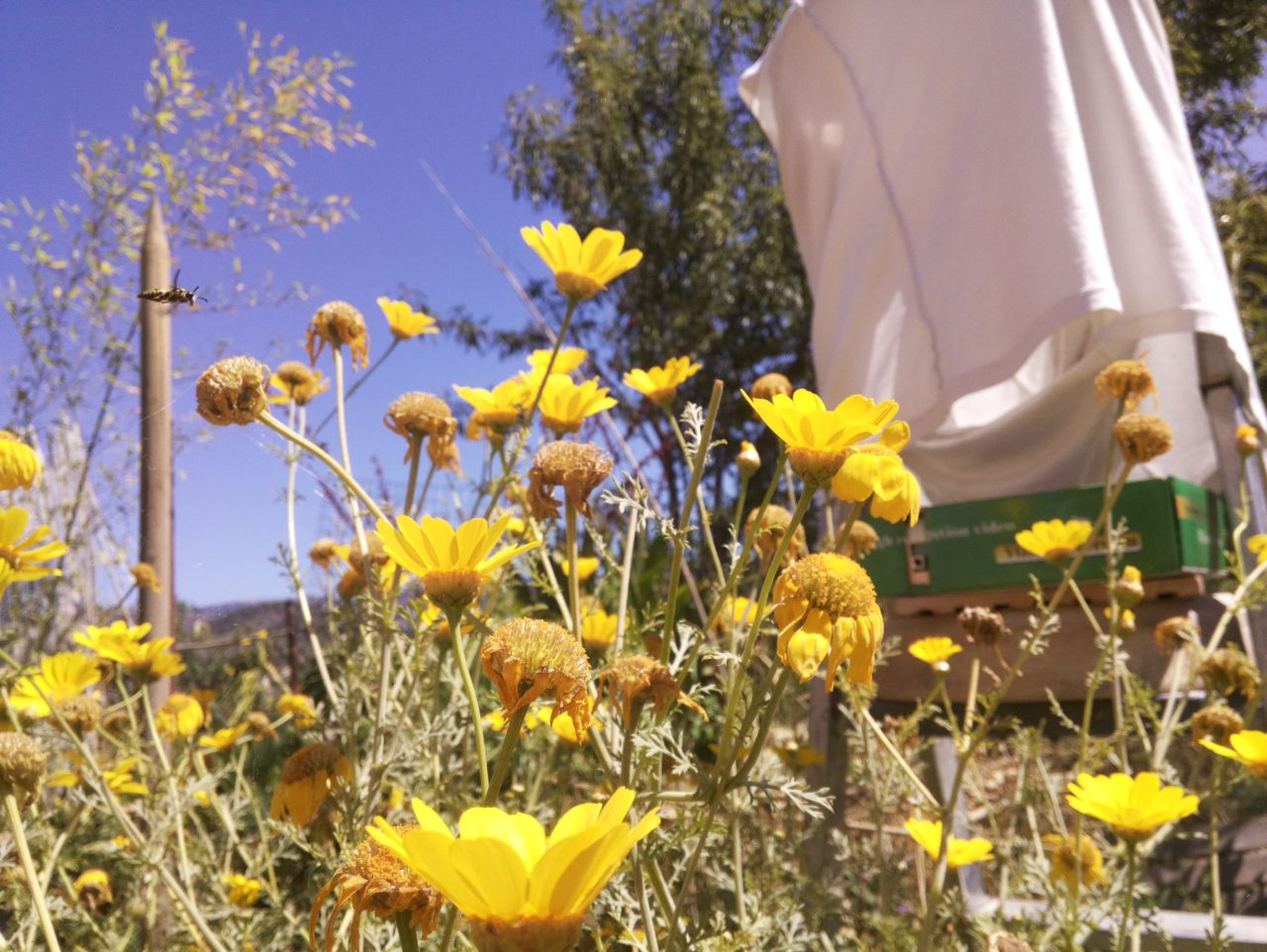Wasp: (128, 269, 220, 329)
